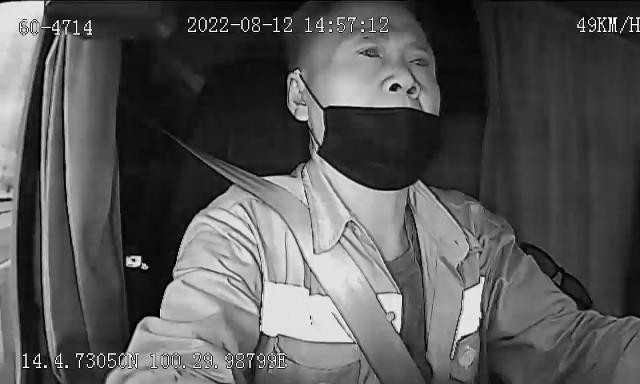SafeDriving: (401, 45, 437, 74), (352, 39, 390, 65)
Seatbelt: (176, 144, 440, 384)
